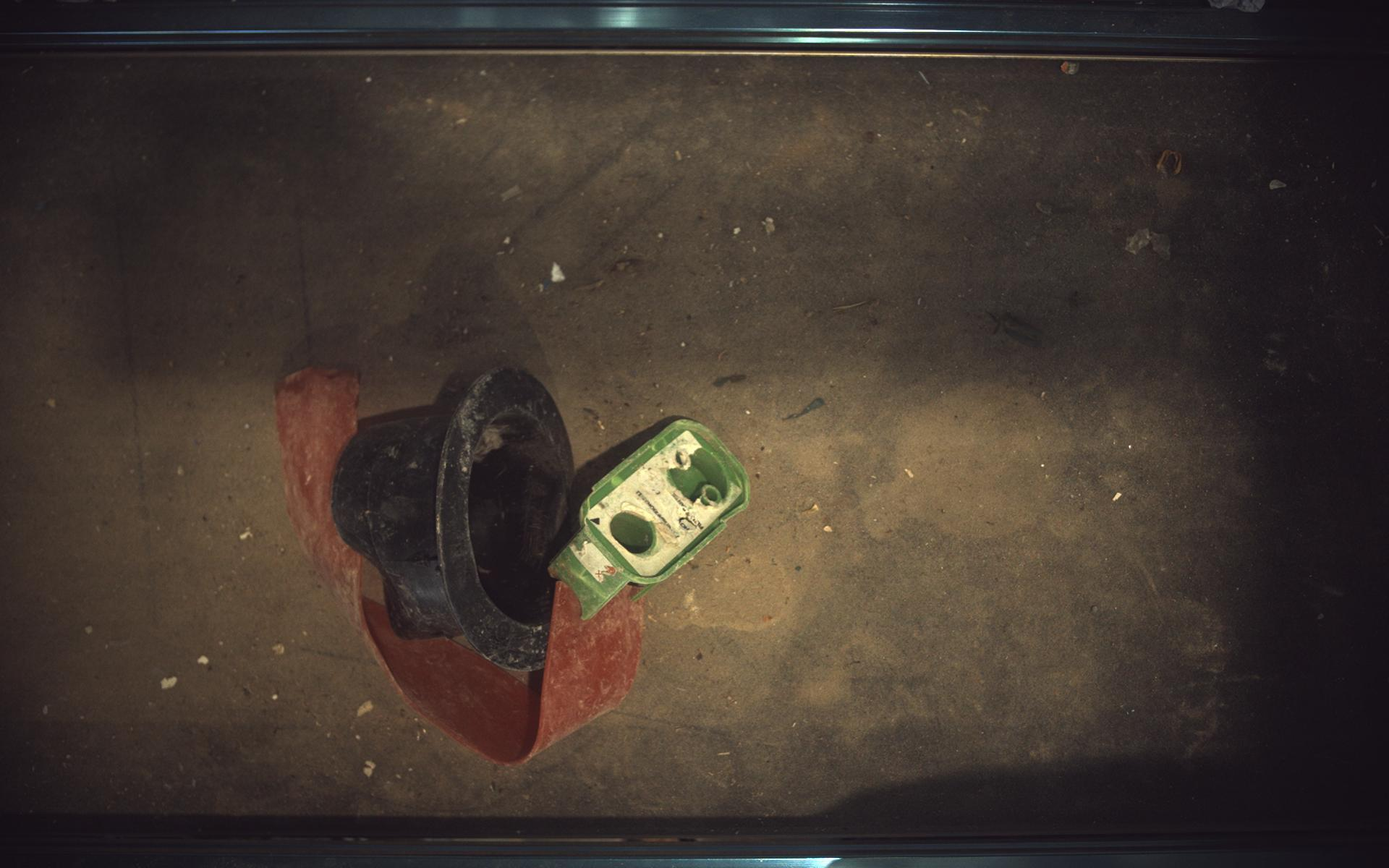plastic: (276, 368, 644, 766), (331, 369, 574, 672), (549, 420, 750, 620)
